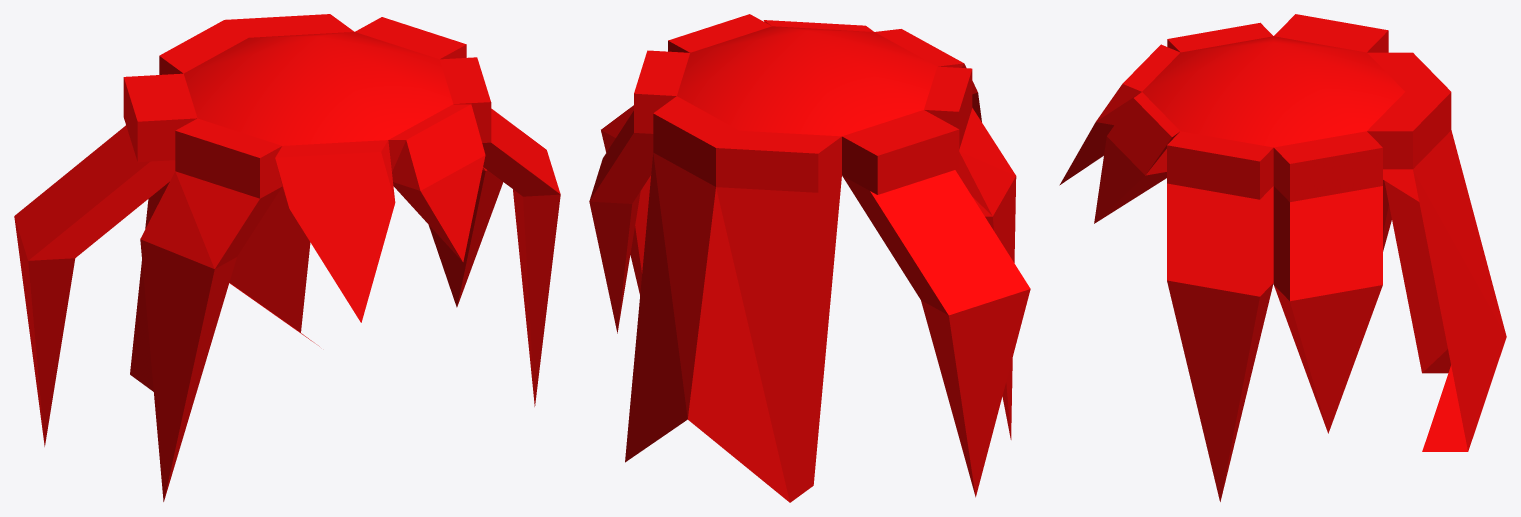
File: saori_hair.FBX
The picture shows the model from 3 angles, left to right: view 1: azimuth 30°, elevation 25°; view 2: azimuth 150°, elevation 25°; view 3: azimuth 270°, elevation 25°; orthographic projection. The views are drawn at different scales.
Size of the model in its own units: 157 by 125 by 134.
